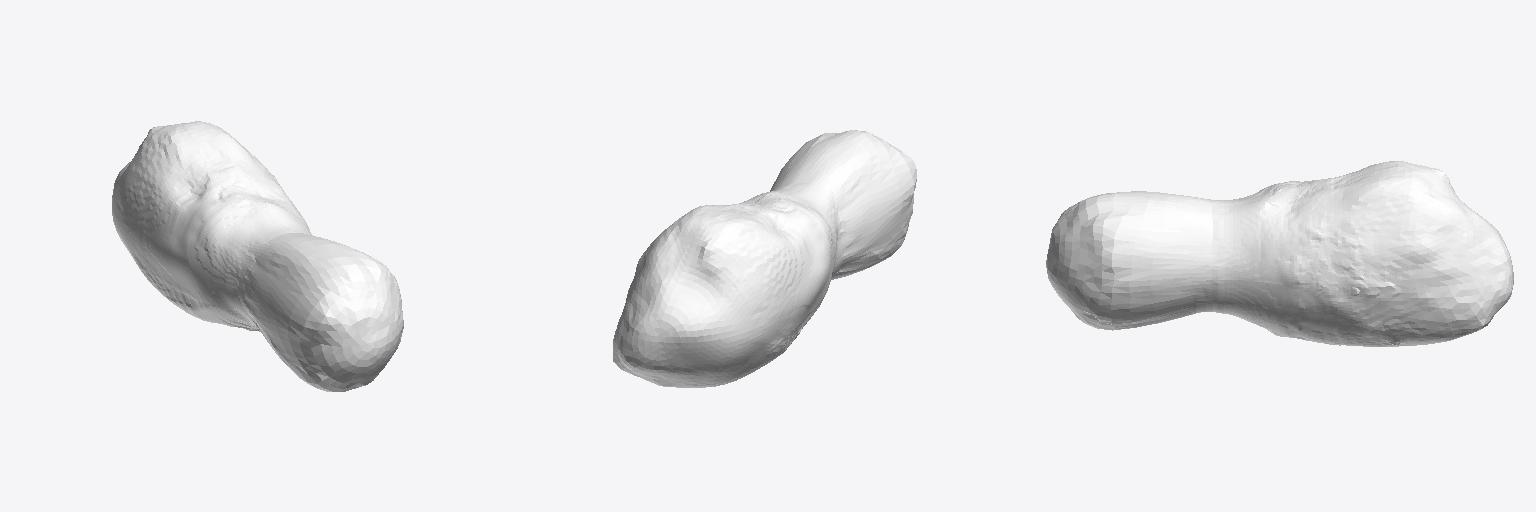
File: Hartley2.obj
3 views of the same model, side by side, from view 1: azimuth 30°, elevation 25°; view 2: azimuth 150°, elevation 25°; view 3: azimuth 270°, elevation 25° (orthographic).
Bounding box in the file's own units: 800 × 937 × 2346.